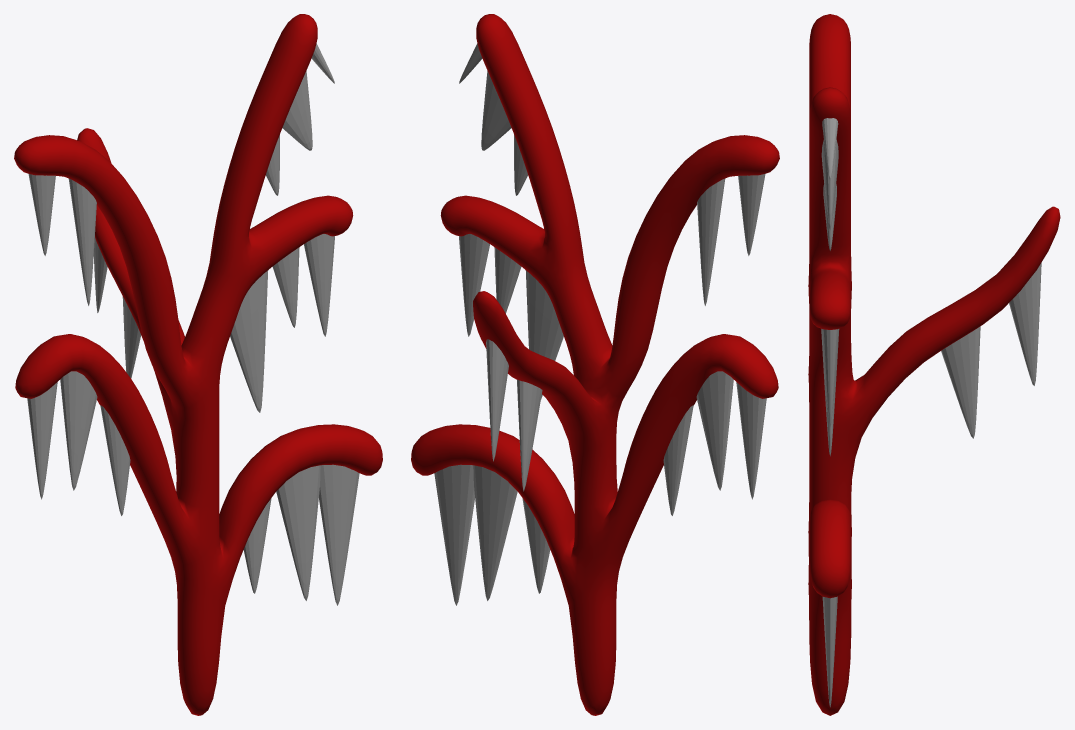
File: mars-tree-08.obj
The picture shows the model from 3 angles, left to right: view 1: azimuth 30°, elevation 25°; view 2: azimuth 150°, elevation 25°; view 3: azimuth 270°, elevation 25°; orthographic projection.
Parts seen in each view (by area): view 1: Tree.008_Cube.061; view 2: Tree.008_Cube.061; view 3: Tree.008_Cube.061.
Part boxes in pixels (x1,y1,x2,y2): Tree.008_Cube.061: (14, 14, 382, 715); Tree.008_Cube.061: (411, 14, 779, 715); Tree.008_Cube.061: (808, 14, 1060, 715).
Bounding box in the file's own units: 1.9 × 3.37 × 1.13.
